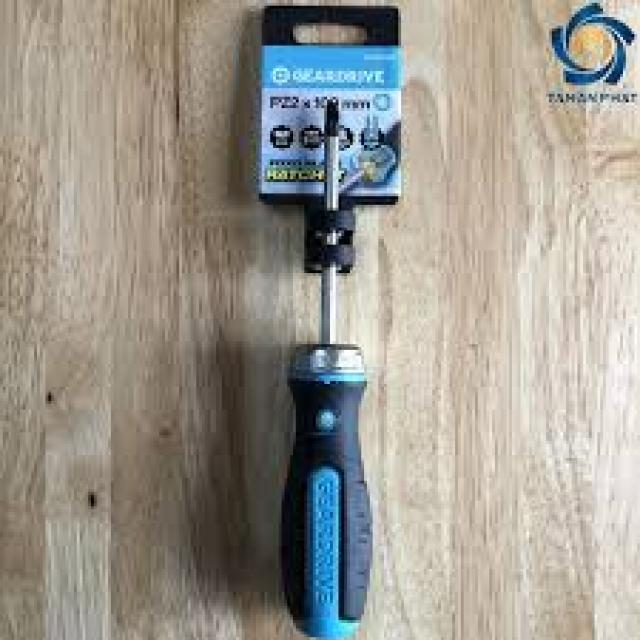screwdriver: (276, 94, 376, 640)
